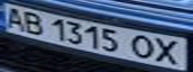1: (42, 16, 69, 42), (81, 22, 103, 50)
3: (63, 19, 84, 46)
5: (100, 26, 127, 54)
A: (0, 5, 27, 30)
B: (18, 9, 48, 35)
O: (127, 33, 160, 61)
X: (151, 36, 187, 66)
